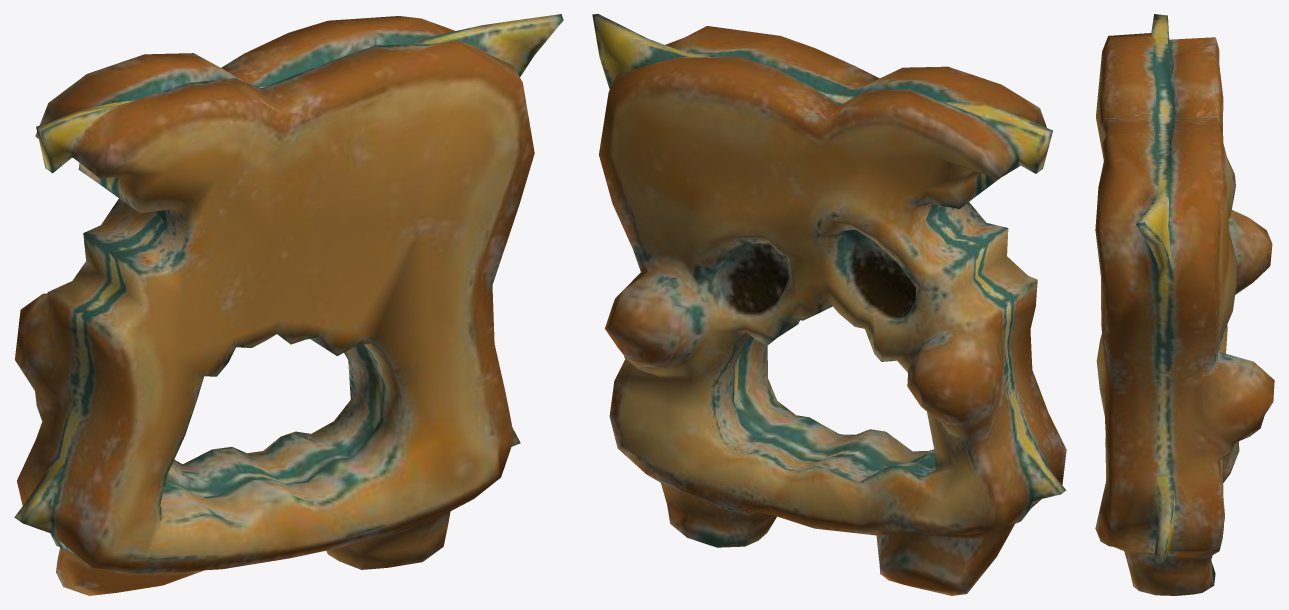
The model's file is bread.glb.
The picture shows the model from 3 angles, left to right: view 1: azimuth 30°, elevation 25°; view 2: azimuth 150°, elevation 25°; view 3: azimuth 270°, elevation 25°; orthographic projection. The views are drawn at different scales.
Parts seen in each view (by area): view 1: qq.002; view 2: qq.002; view 3: qq.002.
Part boxes in pixels (x1=…): qq.002: x1=14, y1=14, x2=563, y2=595; qq.002: x1=592, y1=14, x2=1066, y2=595; qq.002: x1=1095, y1=14, x2=1274, y2=595.
Bounding box in the file's own units: 1.98 × 1.91 × 0.6971.
Materials: 1 (1 with a texture image).
